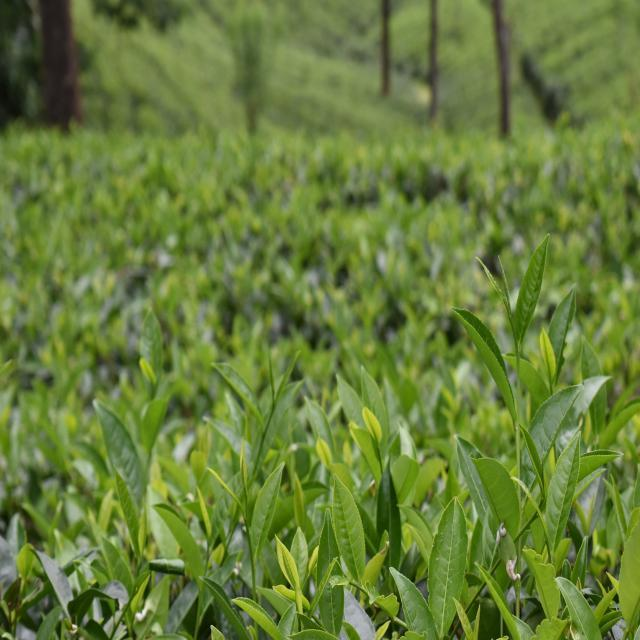Stem: (515, 351, 520, 360), (261, 430, 266, 437), (245, 518, 248, 523), (207, 553, 210, 557)
